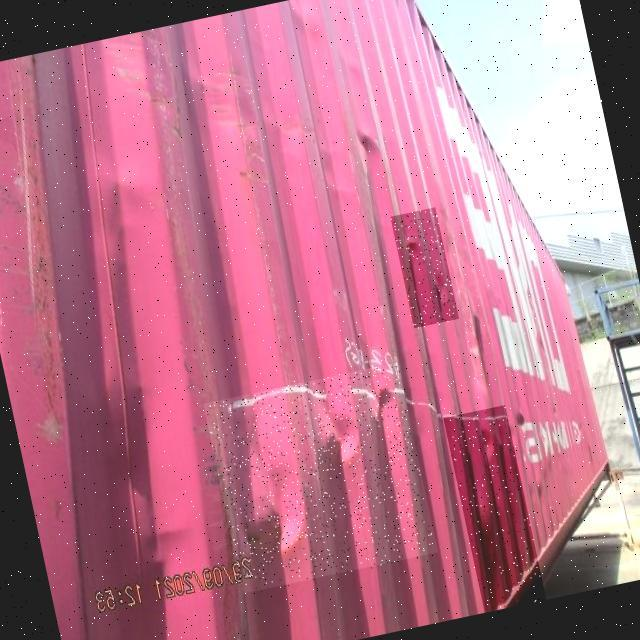Dent: (203, 363, 438, 596)
Minor-Dent: (443, 405, 546, 613), (390, 207, 459, 330)
